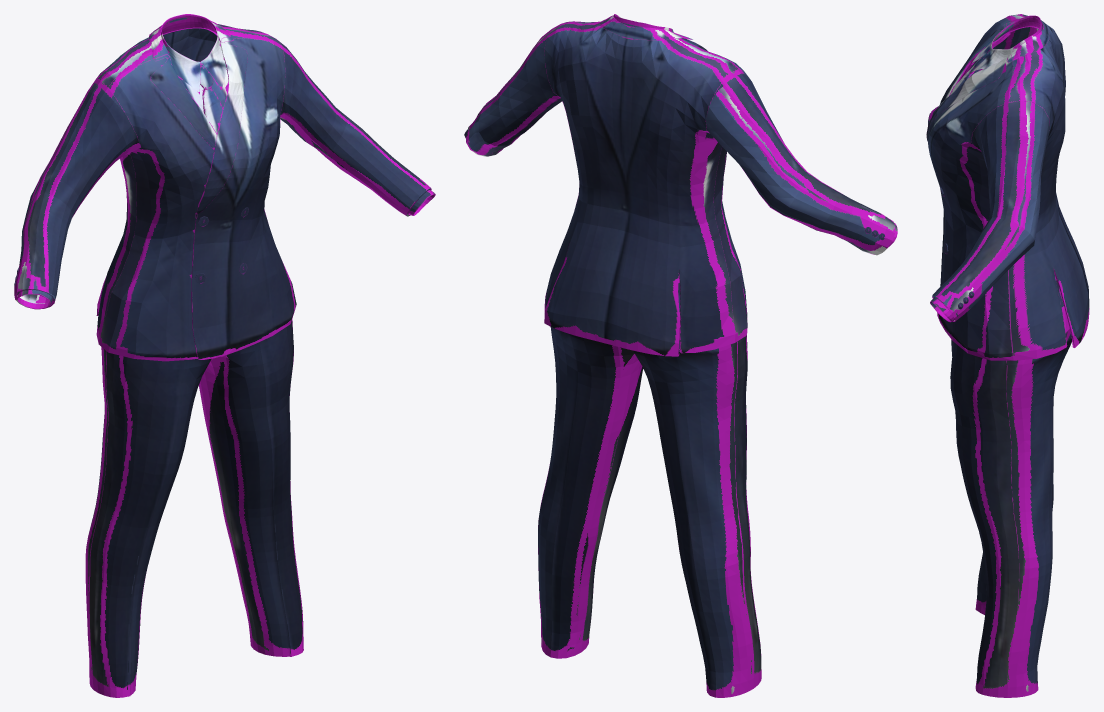
3 renders of one model, left to right at view 1: azimuth 30°, elevation 25°; view 2: azimuth 150°, elevation 25°; view 3: azimuth 270°, elevation 25°, orthographic. The views are drawn at different scales.
Bounding box in the file's own units: 0.6132 × 0.8994 × 0.211.
Materials: 1 (1 with a texture image).
